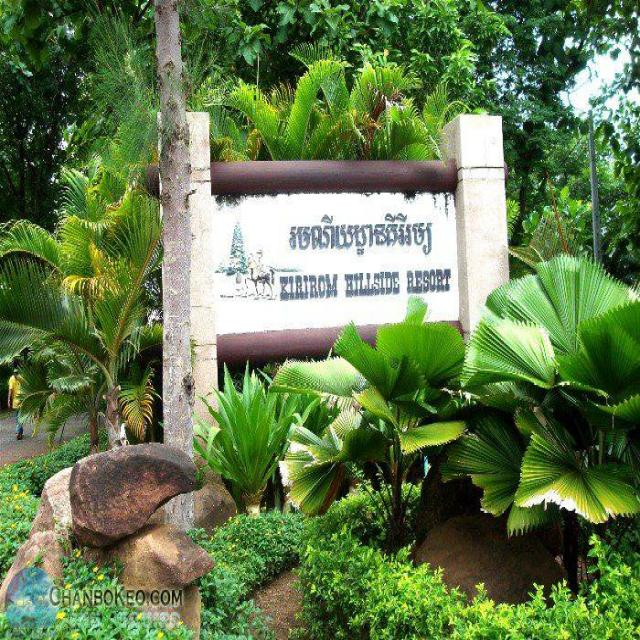Yolov11_80vkh: (284, 212, 440, 262)
